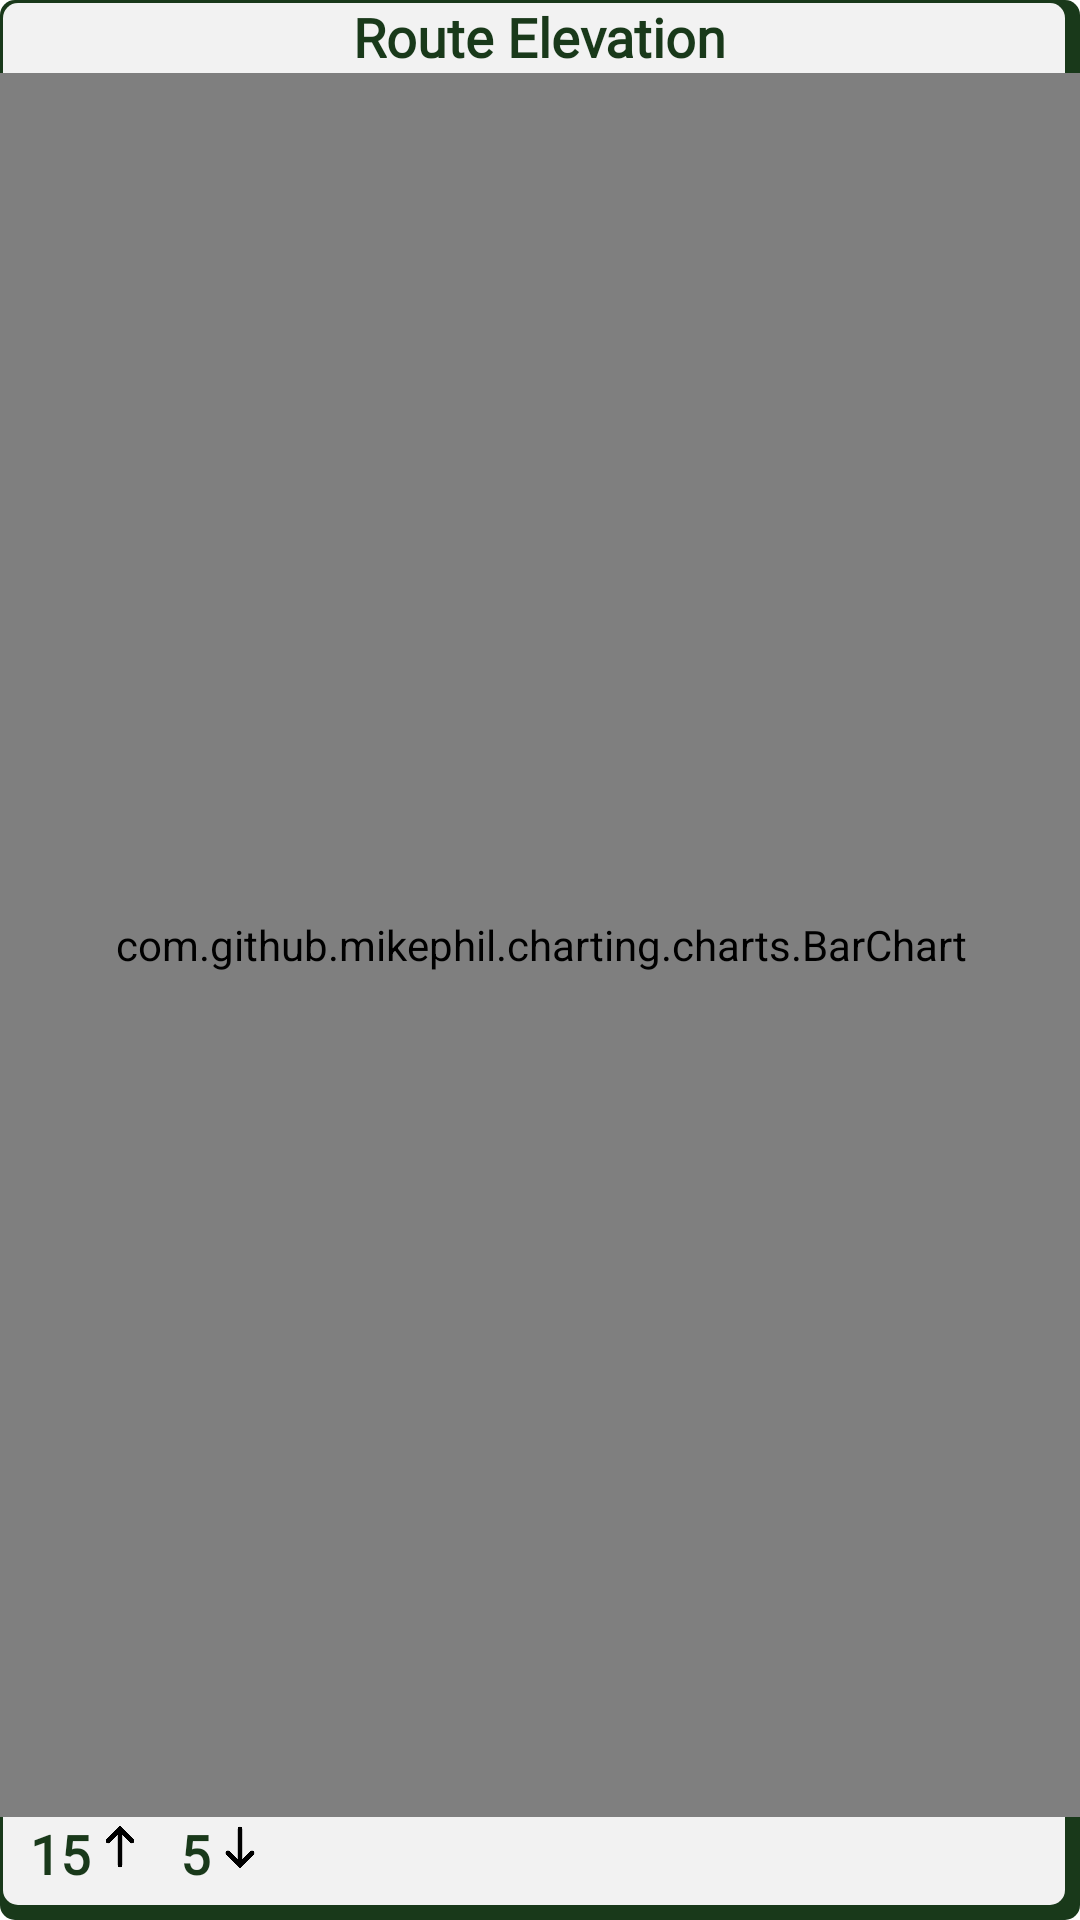

Screen size 1080px x 1920px. Icon name, then its center in pixels as point (x, y):
godown: point (240, 1847)
goup: point (120, 1846)
